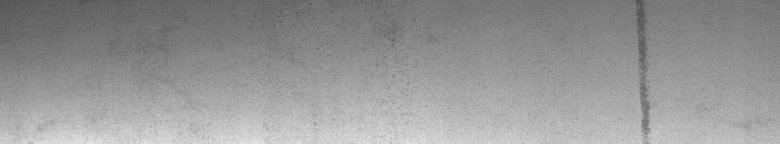hd: (632, 4, 656, 136)
